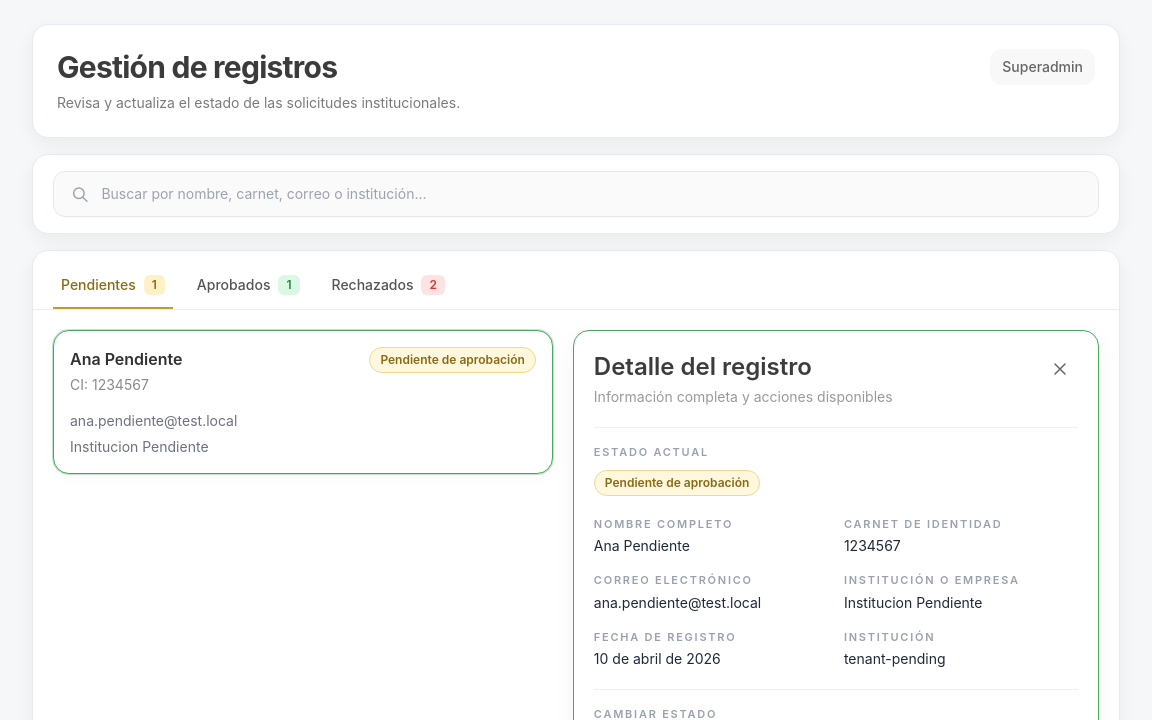
Test: MX-16 | integración de registros y recuperación institucional › [MX-16][ADM-REG-P0-001][INTEGRACION] agrupa pestañas y búsqueda, muestra detalle y ejecuta decisiones globales con feedback solo para Superadmin
This screenshot has width=1152, height=720.
expect the heading "Gestión de registros" is shown: met, box [57, 49, 337, 85]
Click the button "Ana Pendiente" at (126, 359), box [53, 330, 553, 474]
(page scrolled)
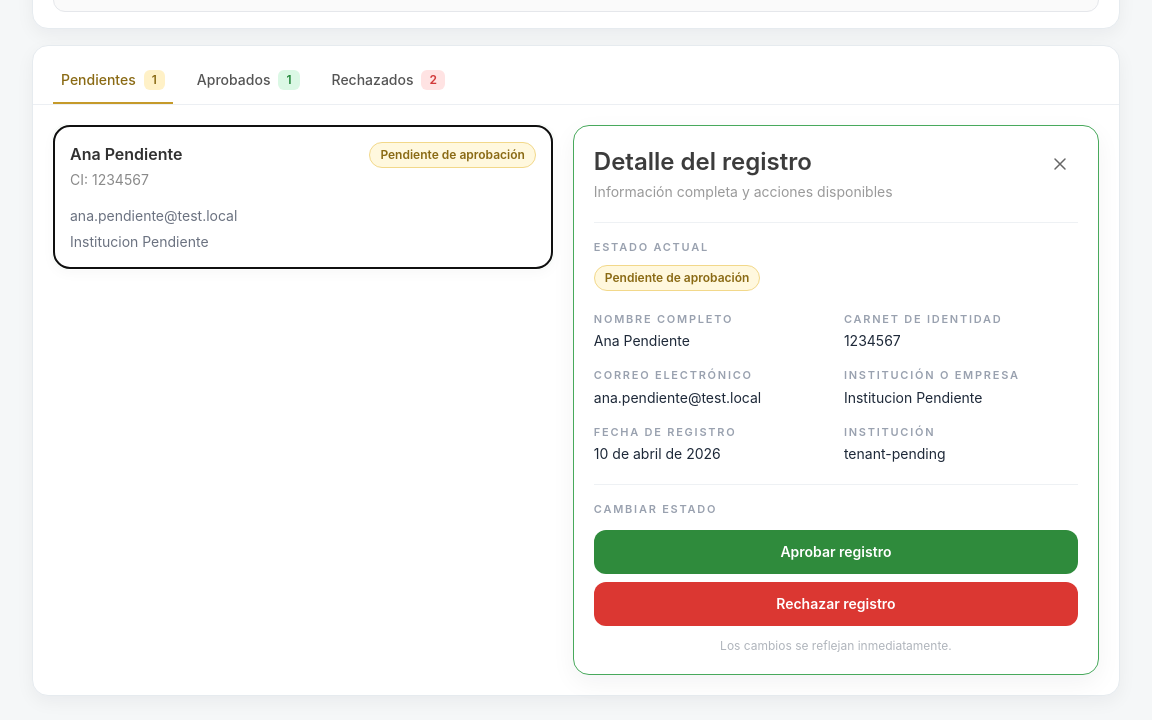
expect the text "Carnet de identidad" is shown: met, box [844, 312, 1002, 326]
expect the button "Rechazar registro" is shown: met, box [594, 582, 1078, 626]
Click the button "Aprobar registro" at (836, 552), box [594, 530, 1078, 574]
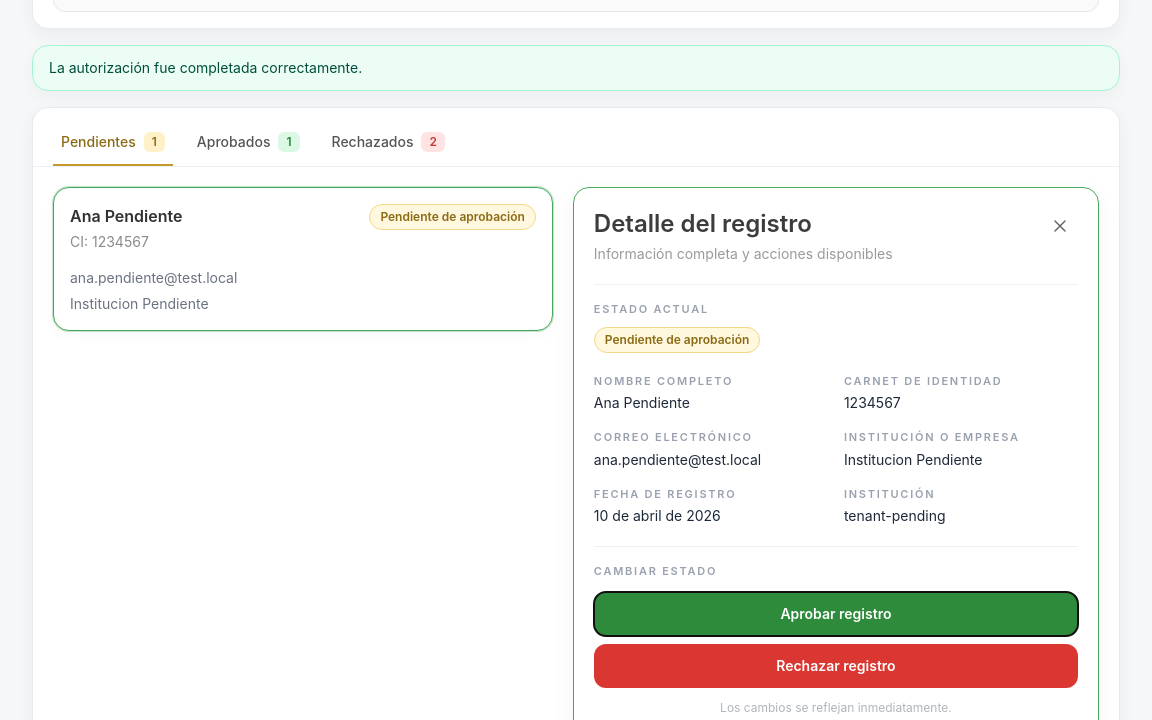
expect the text "La autorización fue completada correctamente." is shown: met, box [32, 45, 1120, 91]
